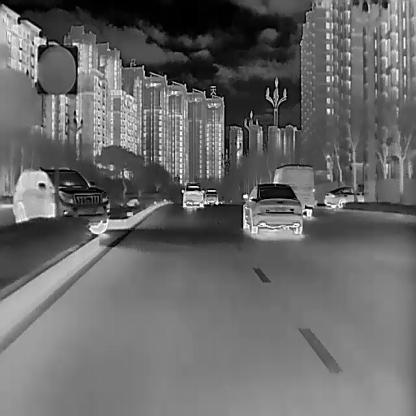car: (11, 163, 111, 236), (240, 181, 303, 234), (272, 162, 315, 216), (324, 184, 364, 208), (181, 180, 204, 208), (204, 185, 219, 204)
